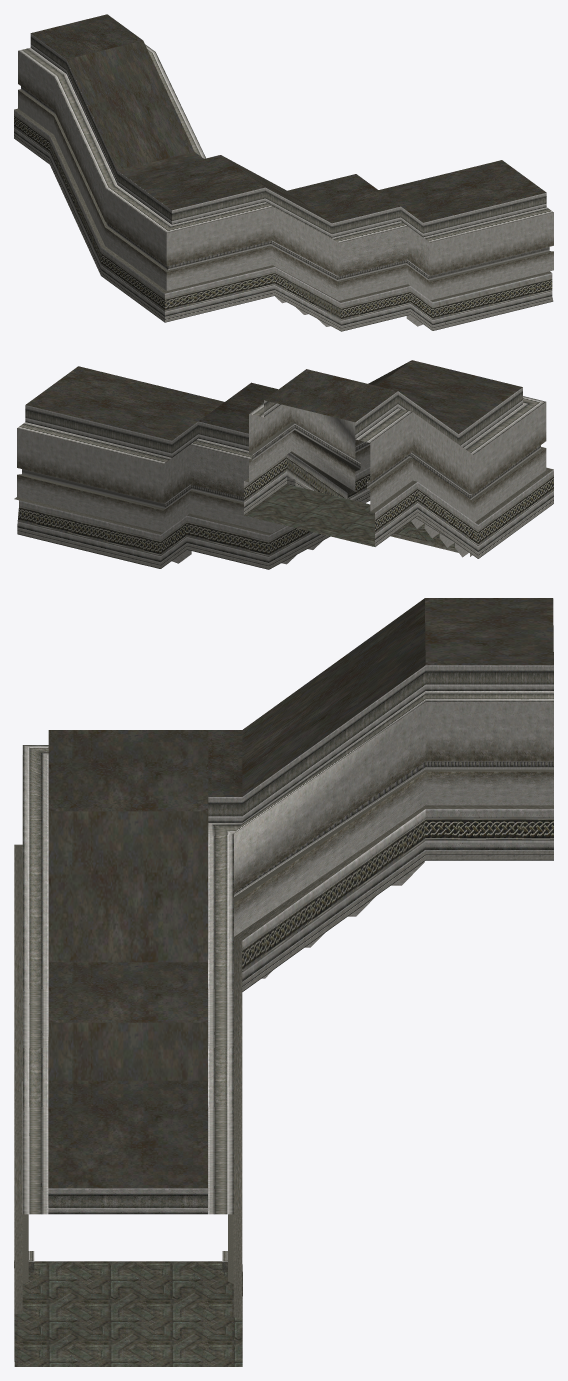
File: DWARF_PALACE_EREBOR_ROOMB01.fbx
The picture shows the model from 3 angles, top to bottom: view 1: azimuth 30°, elevation 25°; view 2: azimuth 150°, elevation 25°; view 3: azimuth 270°, elevation 25°; orthographic projection. The views are drawn at different scales.
Parts seen in each view (by area): view 1: DWARF_PALACE_EREBOR_ROOMB01; view 2: DWARF_PALACE_EREBOR_ROOMB01; view 3: DWARF_PALACE_EREBOR_ROOMB01.
Part boxes in pixels (<box>): DWARF_PALACE_EREBOR_ROOMB01: <box>14,14,553,331</box>; DWARF_PALACE_EREBOR_ROOMB01: <box>14,360,553,569</box>; DWARF_PALACE_EREBOR_ROOMB01: <box>14,598,553,1366</box>.
Bounding box in the file's own units: 283220 × 172001 × 189415.
Materials: 9 (9 with a texture image).
